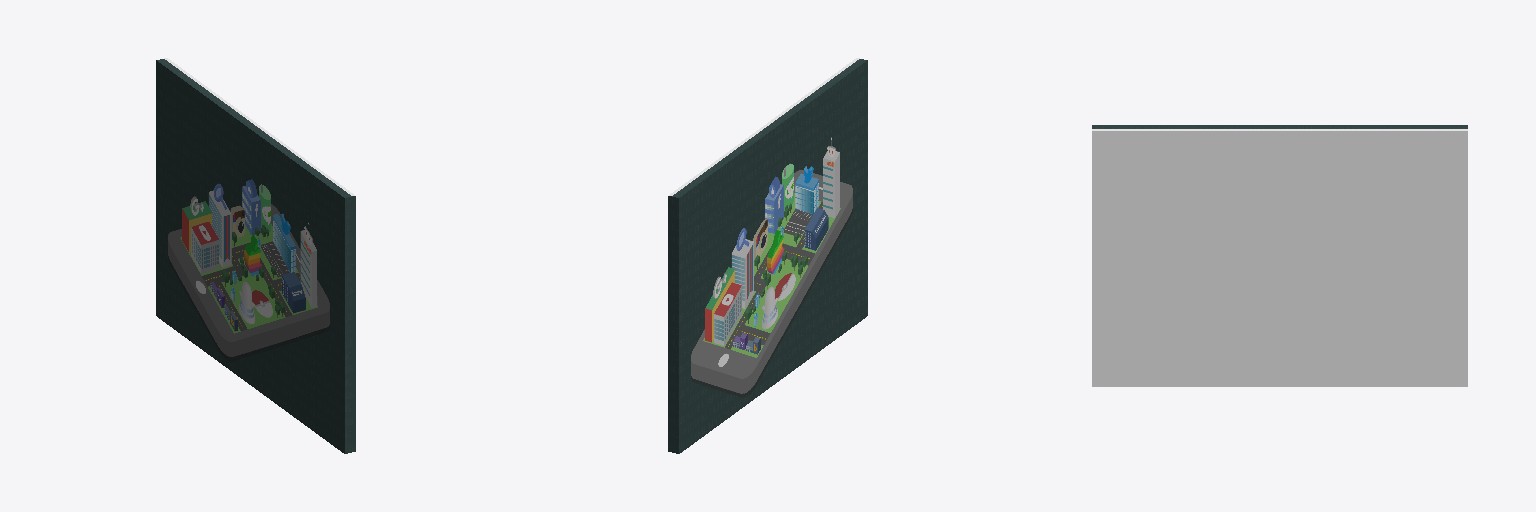
The picture shows the model from 3 angles: view 1: azimuth 30°, elevation 25°; view 2: azimuth 150°, elevation 25°; view 3: azimuth 270°, elevation 25°; orthographic projection.
Parts seen in each view (by area): view 1: pCube30; view 2: pCube30; view 3: pCube30.
Part boxes in pixels (bbox=[...]): pCube30: bbox=[156, 58, 355, 453]; pCube30: bbox=[668, 58, 867, 453]; pCube30: bbox=[1092, 125, 1467, 386].
Size of the model in its own units: 20.9 by 472 by 629.
1 materials, 1 textured.